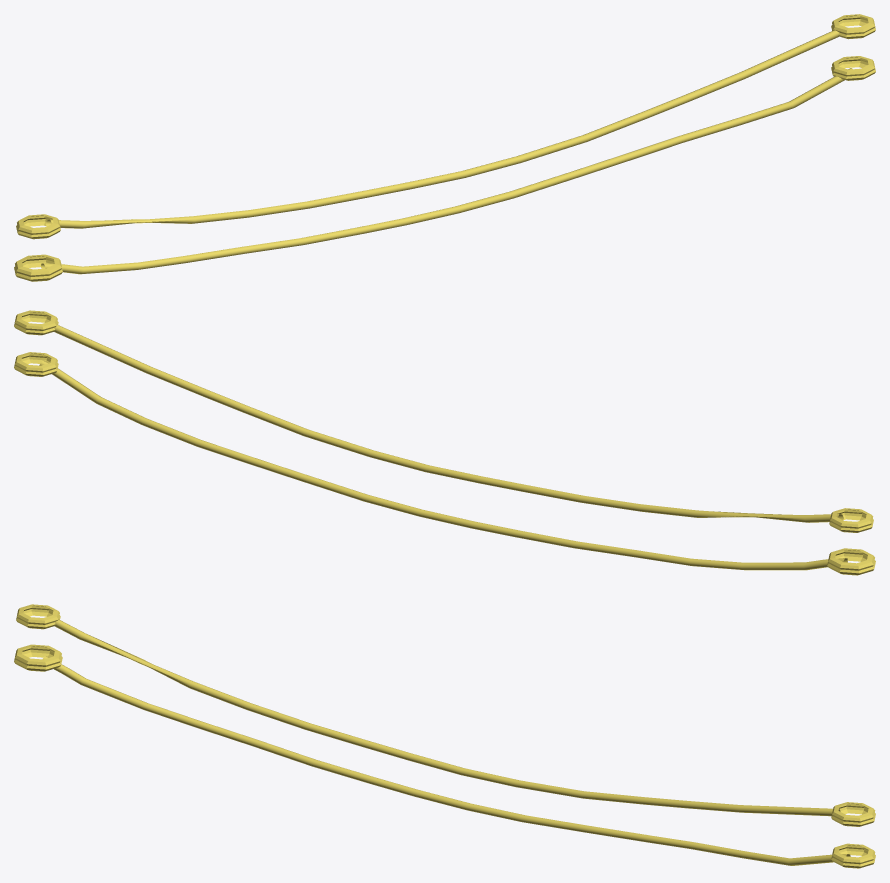
The model's file is Rope_Bridge01.fbx.
3 views of the same model, one above another, from view 1: azimuth 30°, elevation 25°; view 2: azimuth 150°, elevation 25°; view 3: azimuth 330°, elevation 25° (orthographic).
Visible parts, largest first — view 1: NurbsPath; view 2: NurbsPath; view 3: NurbsPath.
Part boxes in pixels (x1,y1,x2,y2): NurbsPath: [14, 14, 875, 281]; NurbsPath: [14, 310, 875, 575]; NurbsPath: [14, 604, 875, 868].
Size of the model in its own units: 6068 by 676 by 291.
